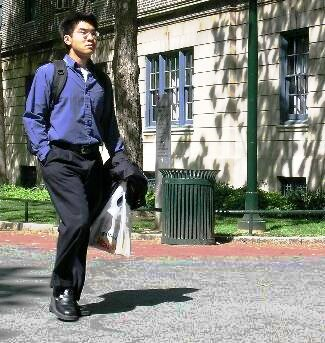person: (19, 11, 147, 318)
